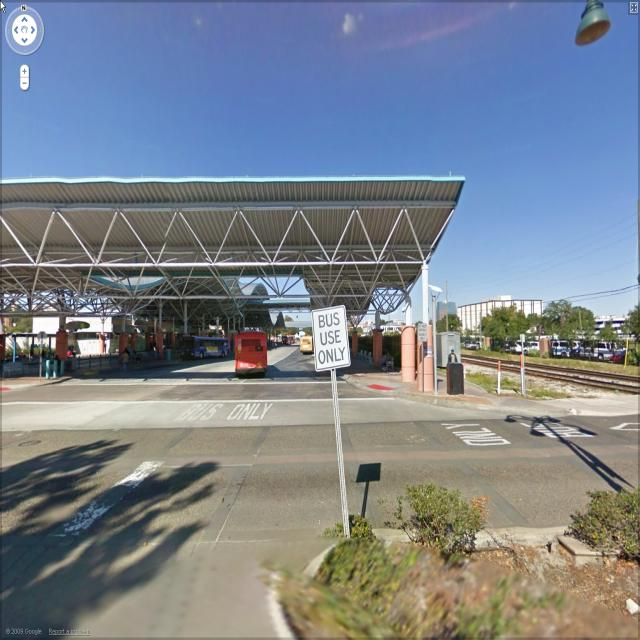b_2: (453, 287, 563, 352), (422, 282, 474, 384)
